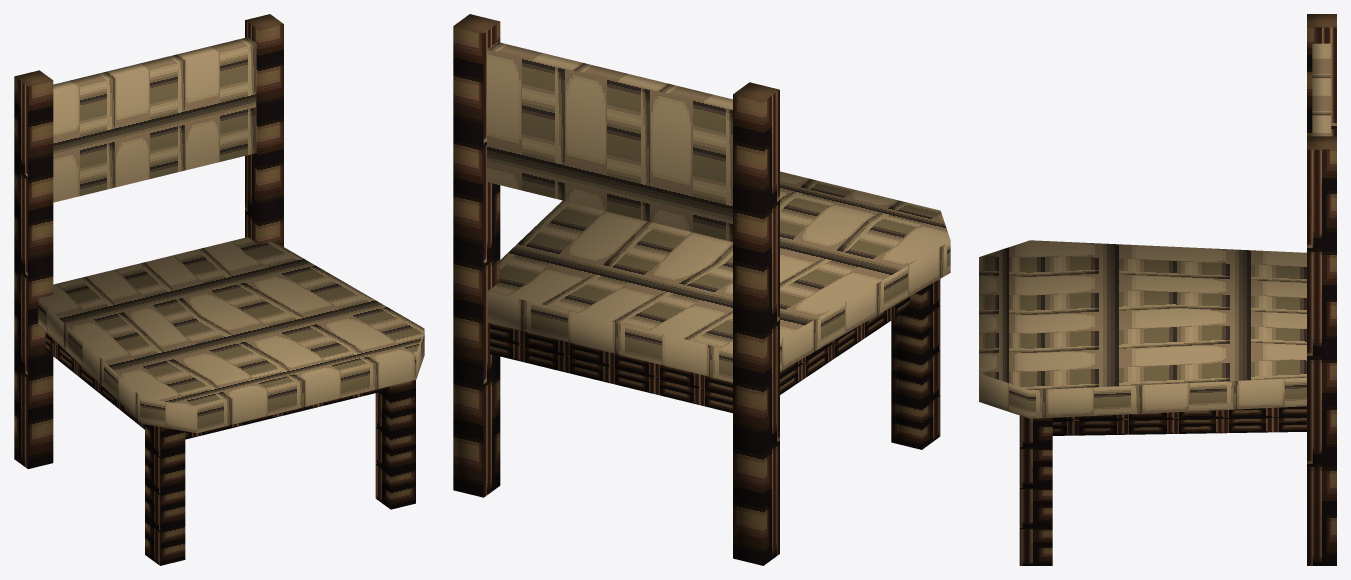
Rendered from 3217IMSD01_03.gltf.
The picture shows the model from 3 angles, left to right: view 1: azimuth 30°, elevation 25°; view 2: azimuth 150°, elevation 25°; view 3: azimuth 270°, elevation 25°; orthographic projection. The views are drawn at different scales.
Visible parts, largest first — view 1: 3217IMSD01_03; view 2: 3217IMSD01_03; view 3: 3217IMSD01_03.
Boxes of the visible parts, x1=… form: 3217IMSD01_03: x1=14, y1=14, x2=424, y2=565; 3217IMSD01_03: x1=453, y1=14, x2=950, y2=565; 3217IMSD01_03: x1=979, y1=14, x2=1336, y2=565.
Size of the model in its own units: 0.7739 by 1 by 0.7803.
Materials: 2 (2 with a texture image).
